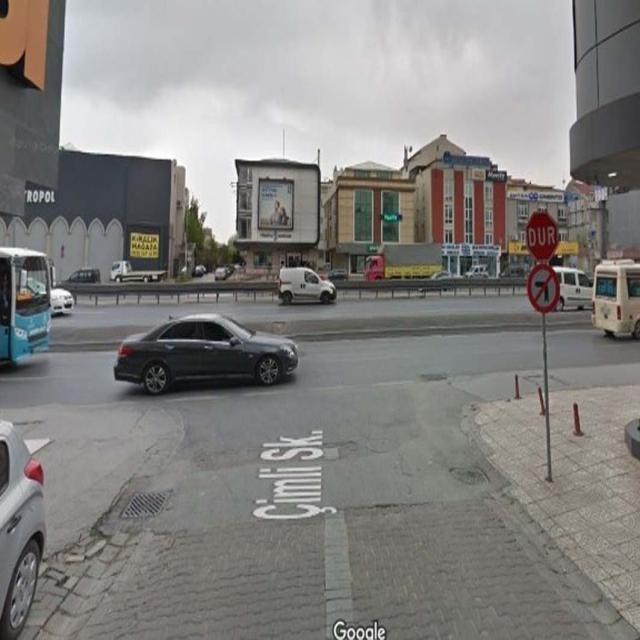dur: (526, 212, 558, 260)
soladonulmez: (528, 265, 560, 314)
